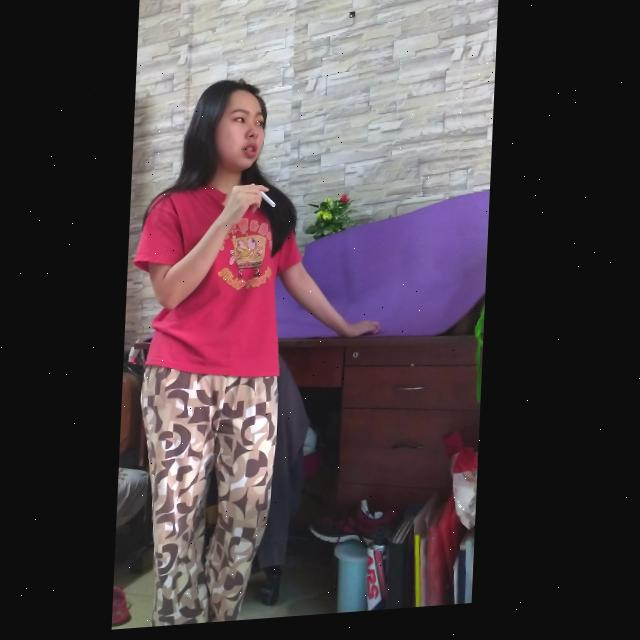cigarette: (253, 187, 278, 213)
